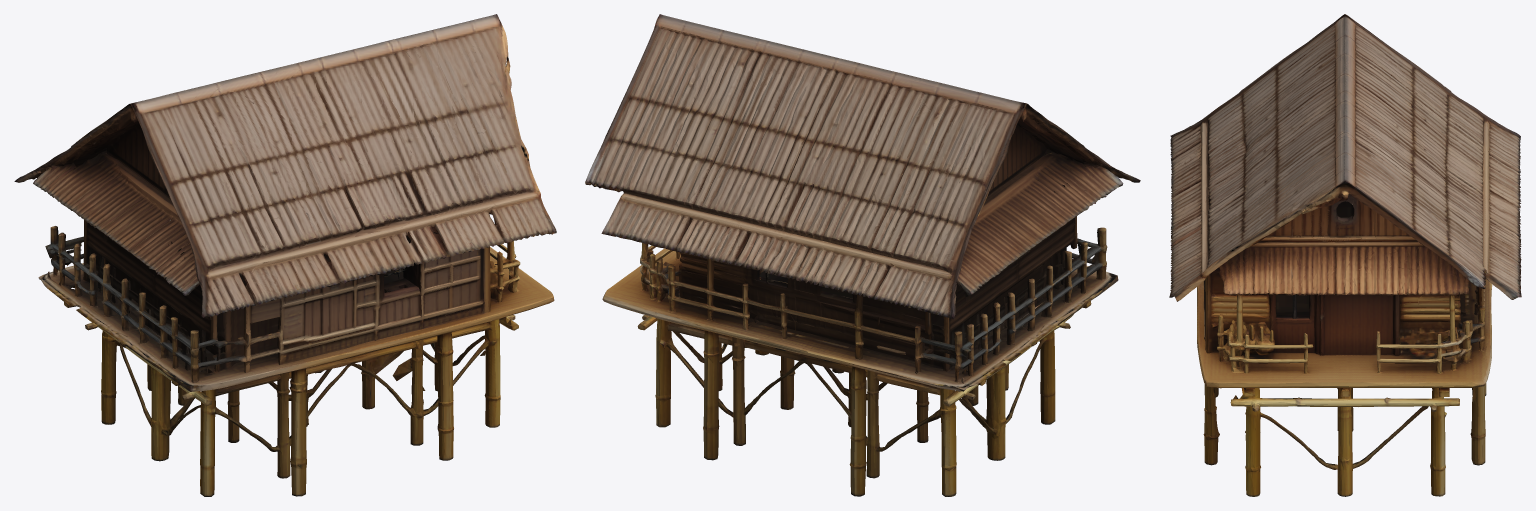
Rendered from house.glb.
3 views of the same model, side by side, from view 1: azimuth 30°, elevation 25°; view 2: azimuth 150°, elevation 25°; view 3: azimuth 270°, elevation 25° (orthographic). The views are drawn at different scales.
Parts seen in each view (by area): view 1: world; view 2: world; view 3: world.
Boxes of the visible parts, <box> form: world: <box>14,14,556,496</box>; world: <box>585,14,1140,496</box>; world: <box>1169,14,1521,496</box>.
Size of the model in its own units: 0.9898 by 0.883 by 0.8326.
1 material, 1 textured.
